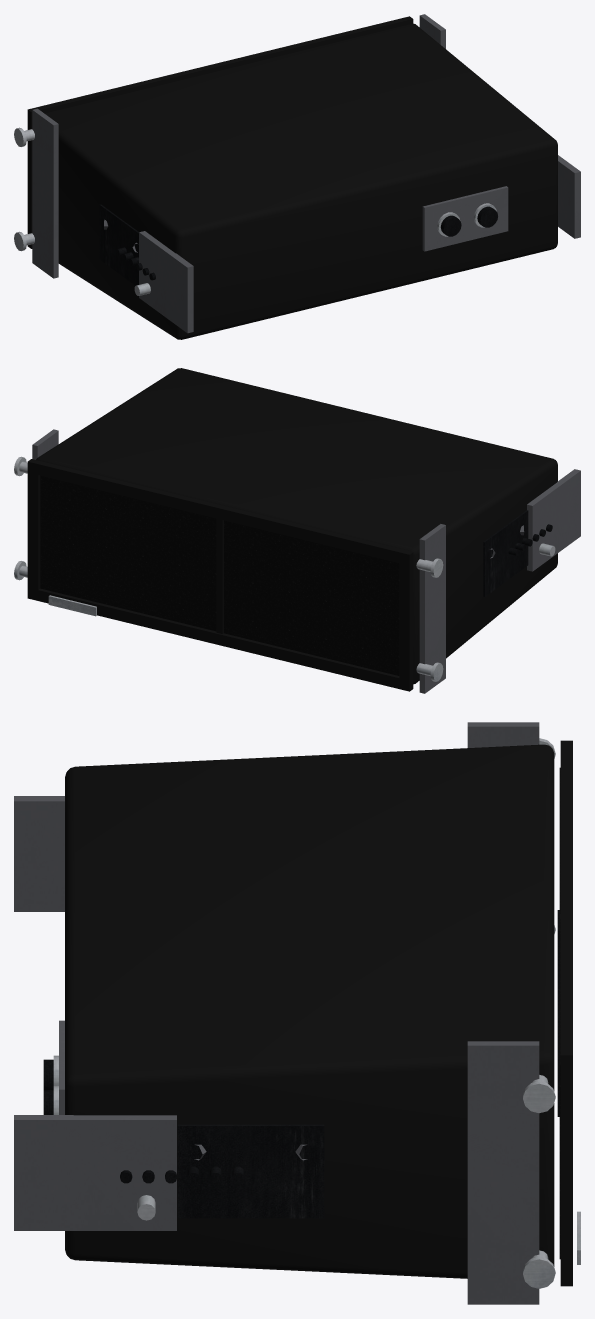
File: line_array_kora.gltf
The picture shows the model from 3 angles, top to bottom: view 1: azimuth 30°, elevation 25°; view 2: azimuth 150°, elevation 25°; view 3: azimuth 270°, elevation 25°; orthographic projection. The views are drawn at different scales.
Visible parts, largest first — view 1: line_array_kora; view 2: line_array_kora; view 3: line_array_kora.
Part boxes in pixels (left/top/right/bottom): line_array_kora: left=14, top=14, right=580, bottom=339; line_array_kora: left=14, top=368, right=580, bottom=693; line_array_kora: left=14, top=722, right=580, bottom=1304.
Size of the model in its own units: 0.802 by 0.28 by 0.556.
5 materials, 5 textured.
